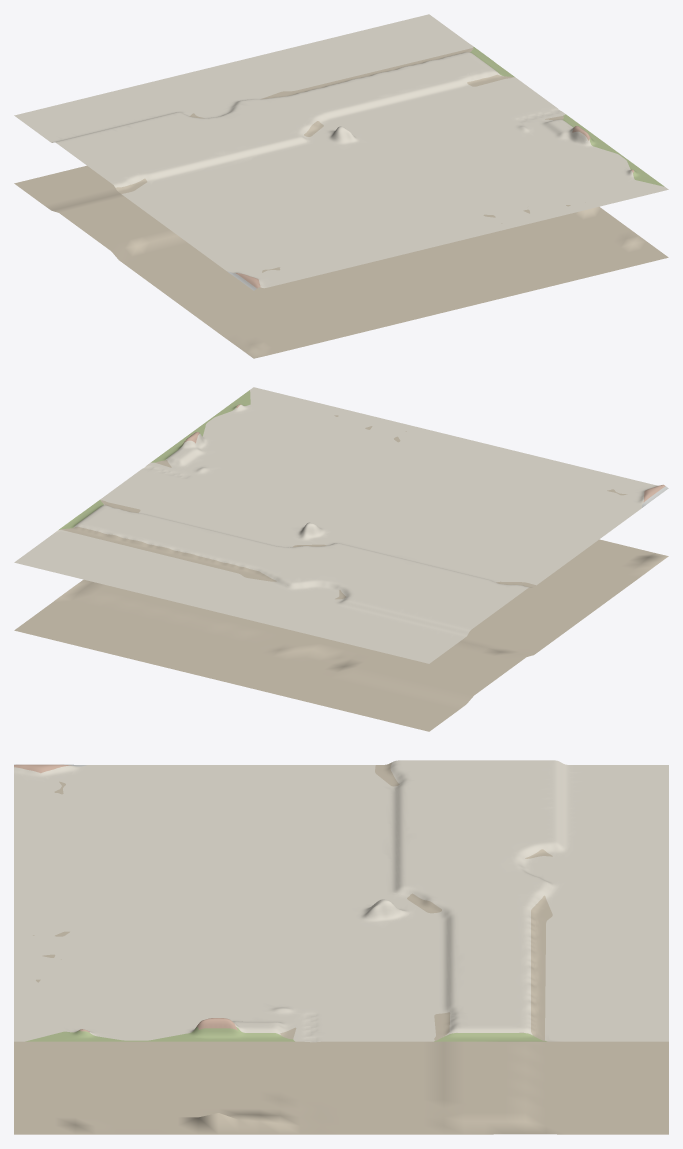
3 renders of one model, top to bottom at view 1: azimuth 30°, elevation 25°; view 2: azimuth 150°, elevation 25°; view 3: azimuth 270°, elevation 25°, orthographic. The views are drawn at different scales.
Visible parts, largest first — view 1: s_0_0__paving, s_0_0__soil, s_0_0__grass; view 2: s_0_0__paving, s_0_0__soil, s_0_0__grass; view 3: s_0_0__paving, s_0_0__soil, s_0_0__grass, s_0_0__brick_paving.
Boxes of the visible parts, x1=… form: s_0_0__paving: x1=14, y1=14, x2=668, y2=288; s_0_0__soil: x1=14, y1=48, x2=668, y2=358; s_0_0__grass: x1=470, y1=47, x2=664, y2=186; s_0_0__paving: x1=14, y1=387, x2=658, y2=663; s_0_0__soil: x1=14, y1=415, x2=668, y2=731; s_0_0__grass: x1=59, y1=390, x2=250, y2=529; s_0_0__paving: x1=14, y1=760, x2=668, y2=1042; s_0_0__soil: x1=14, y1=762, x2=668, y2=1134; s_0_0__grass: x1=25, y1=1027, x2=546, y2=1041; s_0_0__brick_paving: x1=14, y1=764, x2=237, y2=1032.
Bounding box in the file's own units: 128 × 22.97 × 128.
